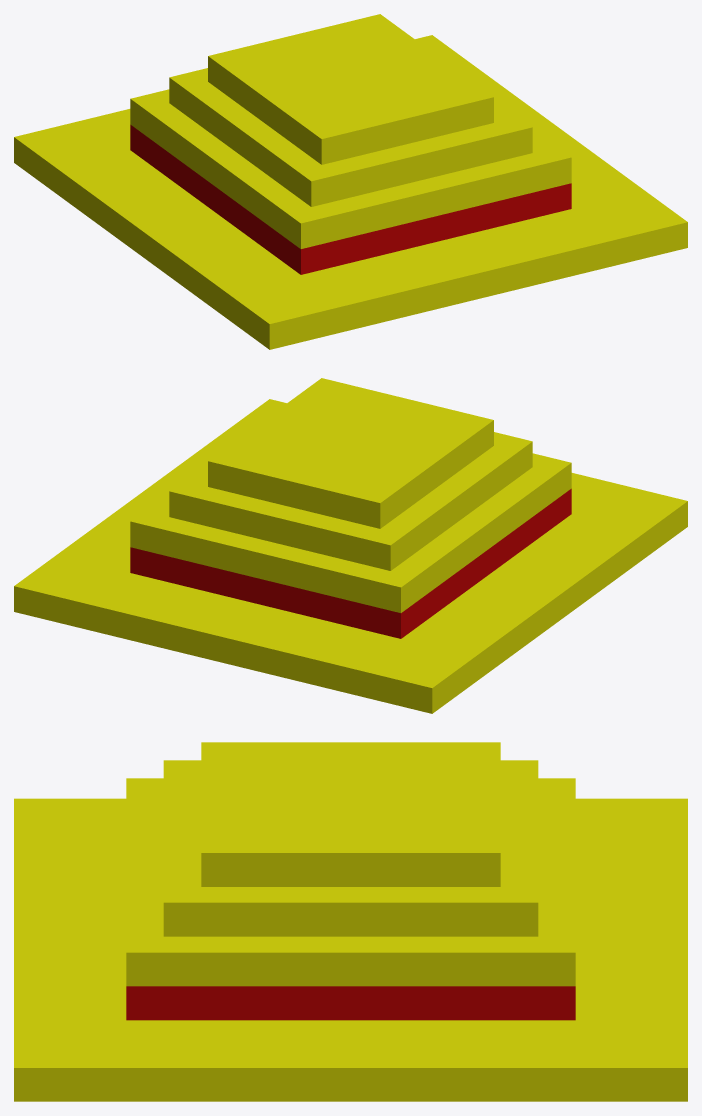
File: hat.glb
3 renders of one model, top to bottom at view 1: azimuth 30°, elevation 25°; view 2: azimuth 150°, elevation 25°; view 3: azimuth 270°, elevation 25°, orthographic. The views are drawn at different scales.
Parts seen in each view (by area): view 1: poc_hat; view 2: poc_hat; view 3: poc_hat.
Part boxes in pixels (box(x1,y1,x2,y2)): poc_hat: box(14, 14, 687, 349); poc_hat: box(14, 378, 687, 713); poc_hat: box(14, 742, 687, 1101).
Size of the model in its own units: 1.7 by 0.5 by 1.8.
